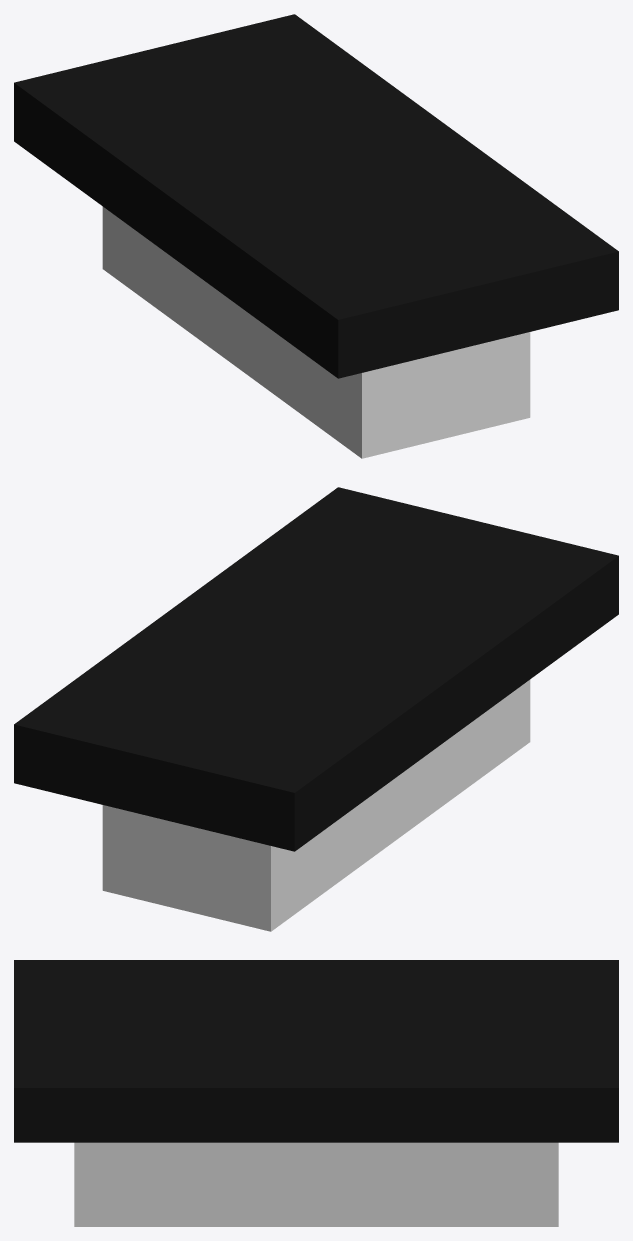
File: SchoolPack-52-whiteboard draft.obj
3 renders of one model, top to bottom at view 1: azimuth 30°, elevation 25°; view 2: azimuth 150°, elevation 25°; view 3: azimuth 270°, elevation 25°, orthographic. The views are drawn at different scales.
Parts seen in each view (by area): view 1: whiteboard draft; view 2: whiteboard draft; view 3: whiteboard draft.
Part boxes in pixels (bbox=[...]): whiteboard draft: bbox=[14, 14, 618, 458]; whiteboard draft: bbox=[14, 487, 618, 931]; whiteboard draft: bbox=[14, 960, 618, 1226].
Bounding box in the file's own units: 0.5 × 0.3 × 1.
1 material, 1 textured.
